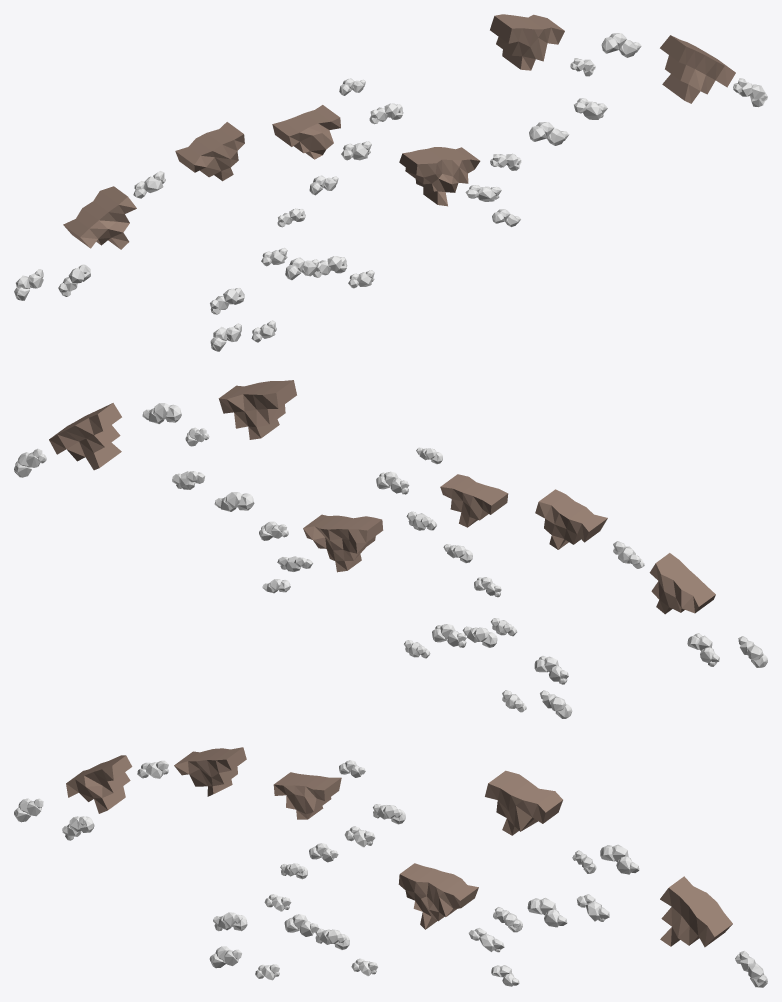
Rendered from LrgShard_ManyTinyIslands_3DMesh.fbx.
The picture shows the model from 3 angles, top to bottom: view 1: azimuth 30°, elevation 25°; view 2: azimuth 150°, elevation 25°; view 3: azimuth 330°, elevation 25°; orthographic projection.
Visible parts, largest first — view 1: Island10, Island27, Island25, Island21, Island19, Island16, Cloud39, Cloud38; view 2: Island25, Island10, Island27, Island21, Island19, Island16, Cloud39, Cloud38, Cloud2, Cloud42, Cloud46; view 3: Island27, Island10, Island25, Island21, Island19, Island16, Cloud39, Cloud38, Cloud46, Cloud2, Cloud35, Cloud42 (+9 smaller).
Boxes of the visible parts, x1=… form: Island10: x1=399, y1=147, x2=480, y2=206; Island27: x1=660, y1=35, x2=735, y2=103; Island25: x1=490, y1=14, x2=564, y2=70; Island21: x1=63, y1=186, x2=136, y2=249; Island19: x1=175, y1=122, x2=244, y2=181; Island16: x1=272, y1=105, x2=340, y2=159; Cloud39: x1=601, y1=33, x2=641, y2=57; Cloud38: x1=529, y1=122, x2=569, y2=145; Island25: x1=218, y1=380, x2=296, y2=439; Island10: x1=303, y1=514, x2=383, y2=572; Island27: x1=49, y1=403, x2=121, y2=470; Island21: x1=649, y1=553, x2=715, y2=614; Island19: x1=535, y1=489, x2=607, y2=549; Island16: x1=440, y1=474, x2=508, y2=527; Cloud39: x1=142, y1=403, x2=181, y2=423; Cloud38: x1=214, y1=492, x2=254, y2=511; Cloud2: x1=687, y1=633, x2=719, y2=666; Cloud42: x1=534, y1=656, x2=568, y2=684; Cloud46: x1=14, y1=448, x2=46, y2=477; Island27: x1=660, y1=876, x2=732, y2=947; Island10: x1=398, y1=863, x2=478, y2=929; Island25: x1=485, y1=770, x2=562, y2=835; Island21: x1=66, y1=755, x2=132, y2=813; Island19: x1=174, y1=747, x2=246, y2=796; Island16: x1=273, y1=772, x2=341, y2=819; Cloud39: x1=600, y1=844, x2=639, y2=874; Cloud38: x1=527, y1=897, x2=567, y2=927; Cloud46: x1=735, y1=950, x2=767, y2=987; Cloud2: x1=62, y1=816, x2=94, y2=840; Cloud35: x1=284, y1=914, x2=319, y2=936; Cloud42: x1=213, y1=912, x2=247, y2=931.
Bounding box in the file's own units: 110 × 37.08 × 6.03.
